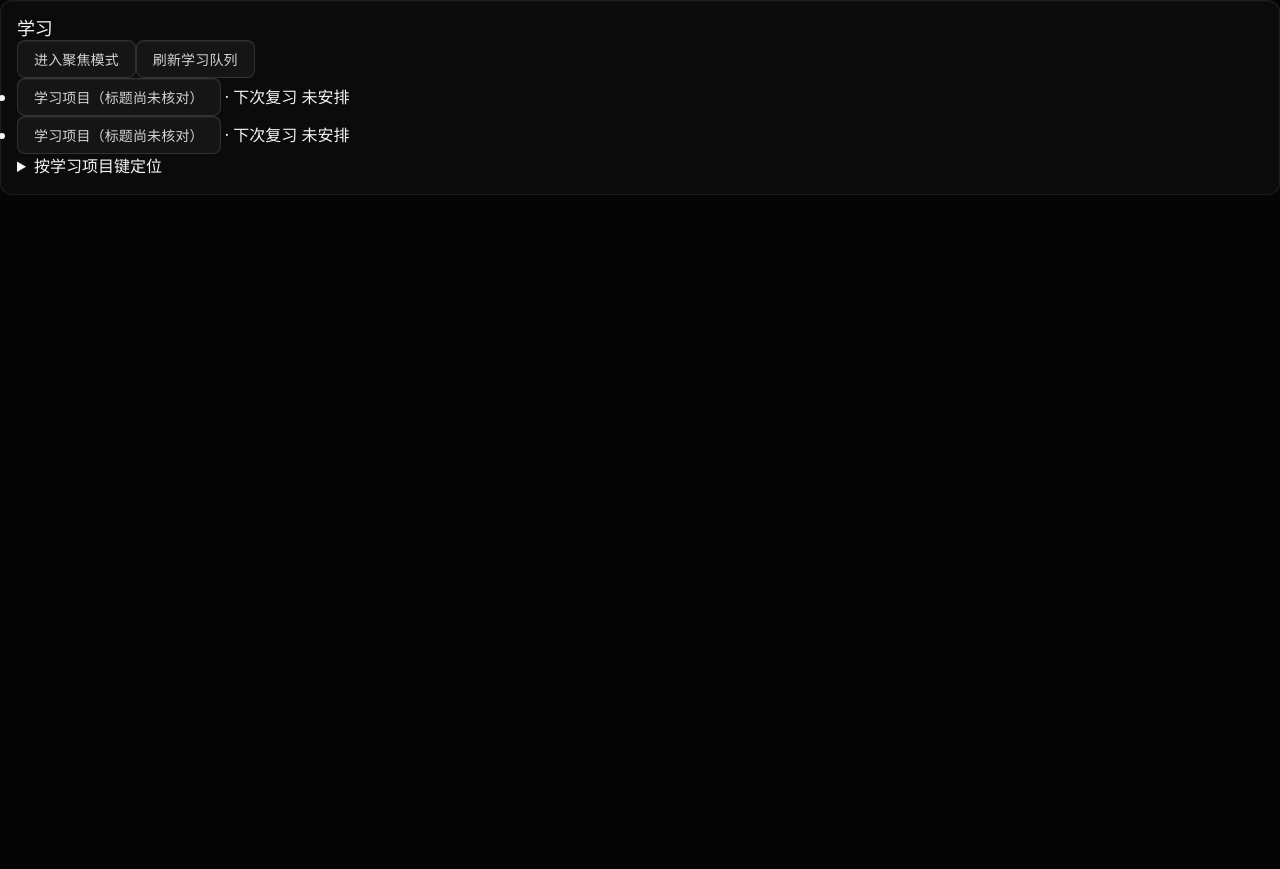
Test: discards only an explicitly confirmed draft and resets the current answer after Core ACK
Click the 1st button "学习项目（标题尚未核对）" at x=119, y=96, box [17,78,221,116]
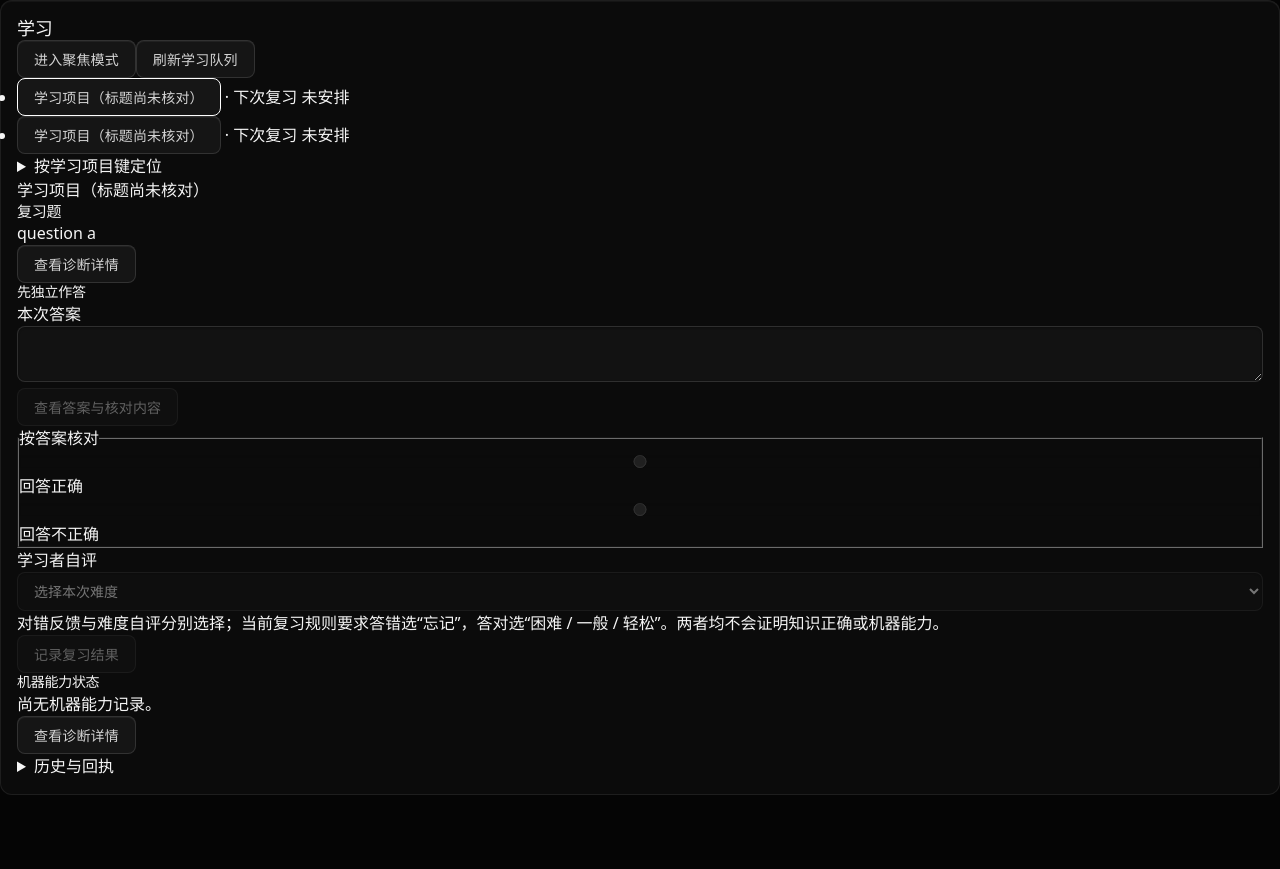
Type "discard only on request" into the text box labelled "本次答案" at x=640, y=354, box [17,326,1263,382]
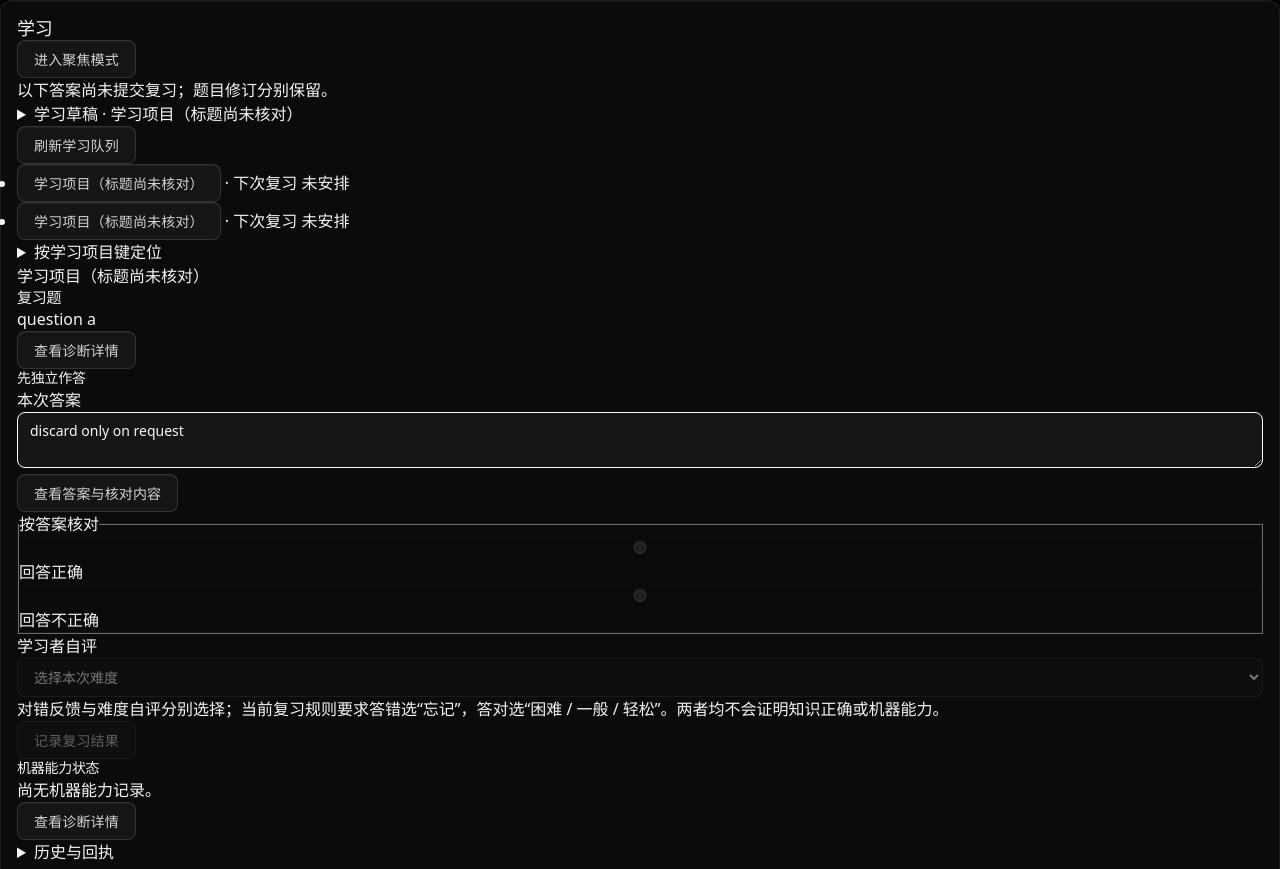
Click the heading "学习草稿 · 学习项目（标题尚未核对）" at x=168, y=114, box [34,102,302,124]
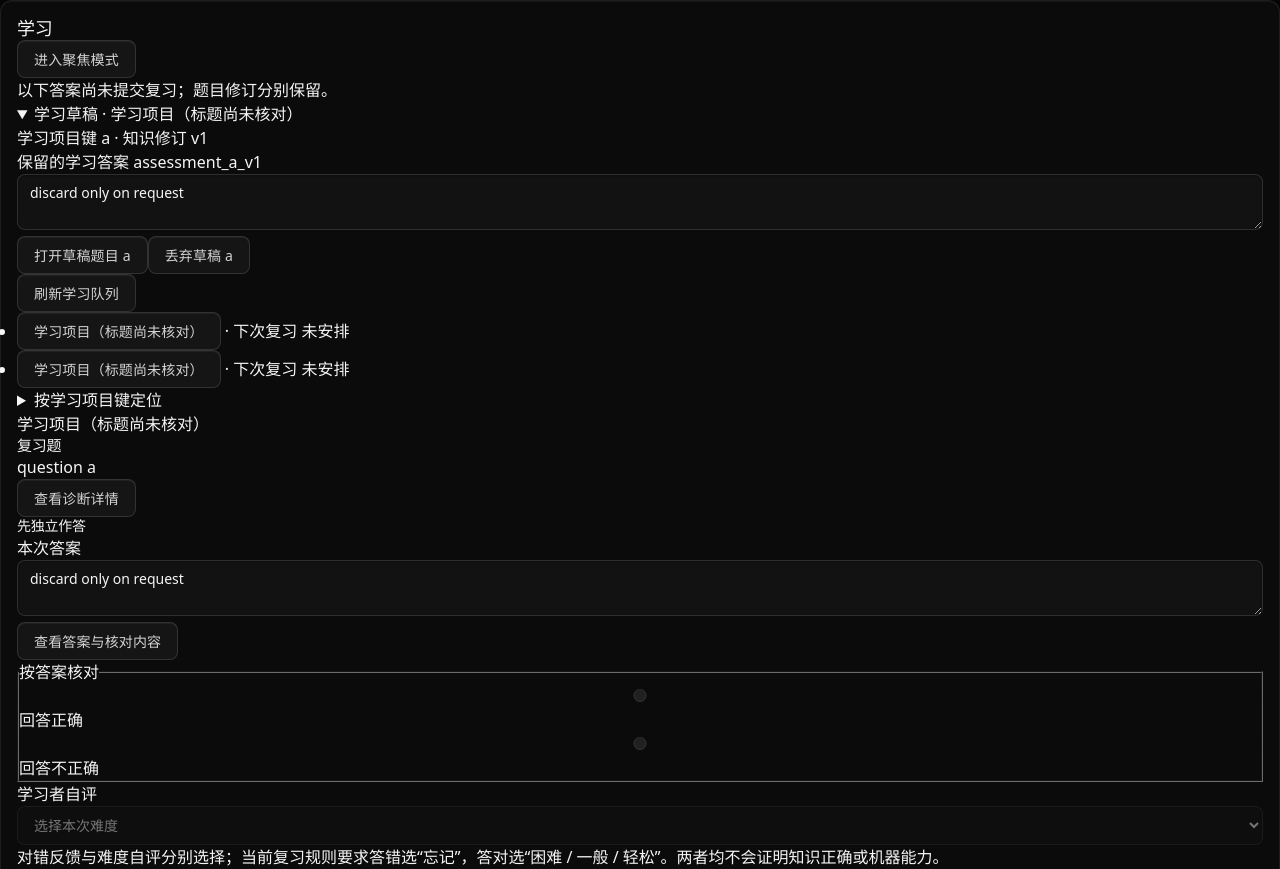
Click the button "丢弃草稿 a" at x=199, y=254, box [148,236,250,274]
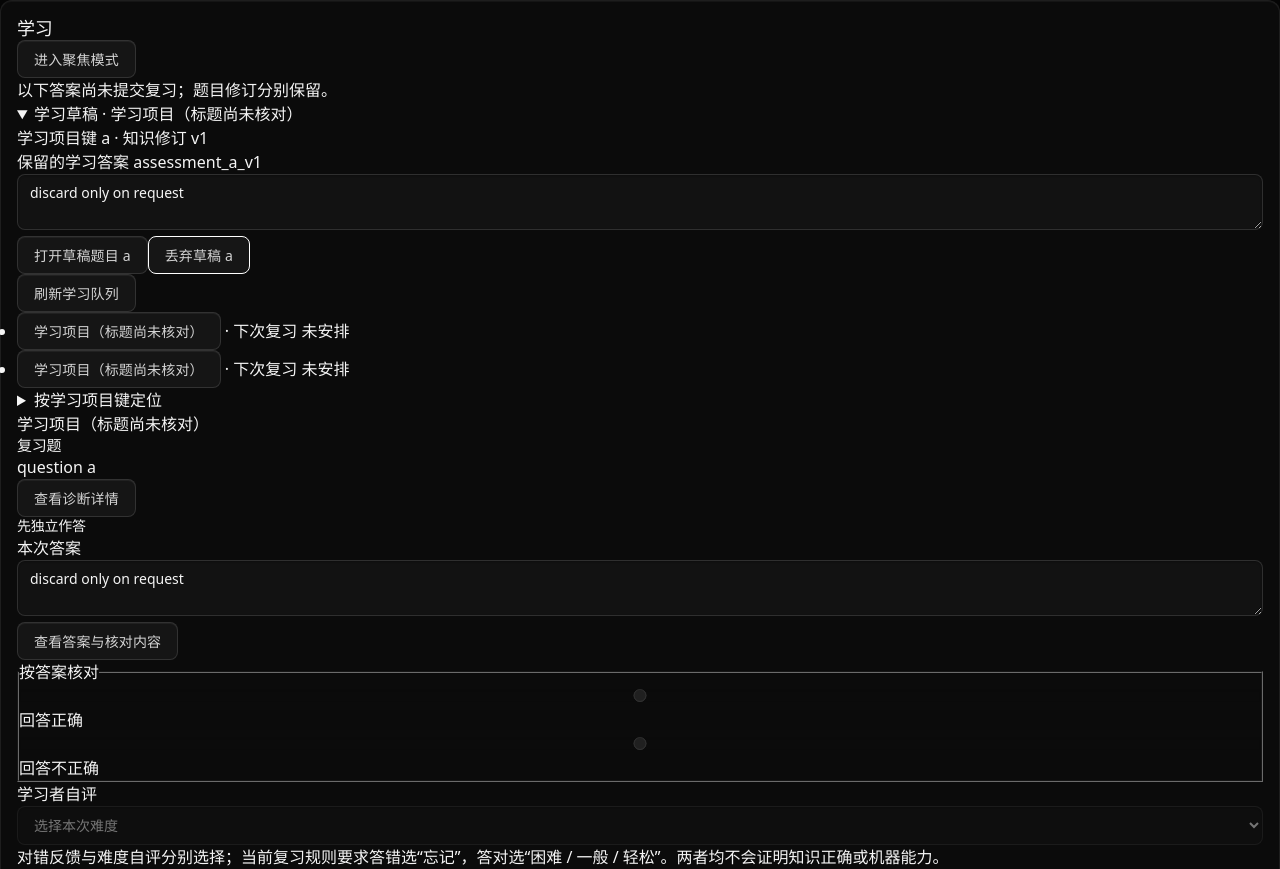
Click the button "丢弃草稿 a" at x=199, y=254, box [148,236,250,274]
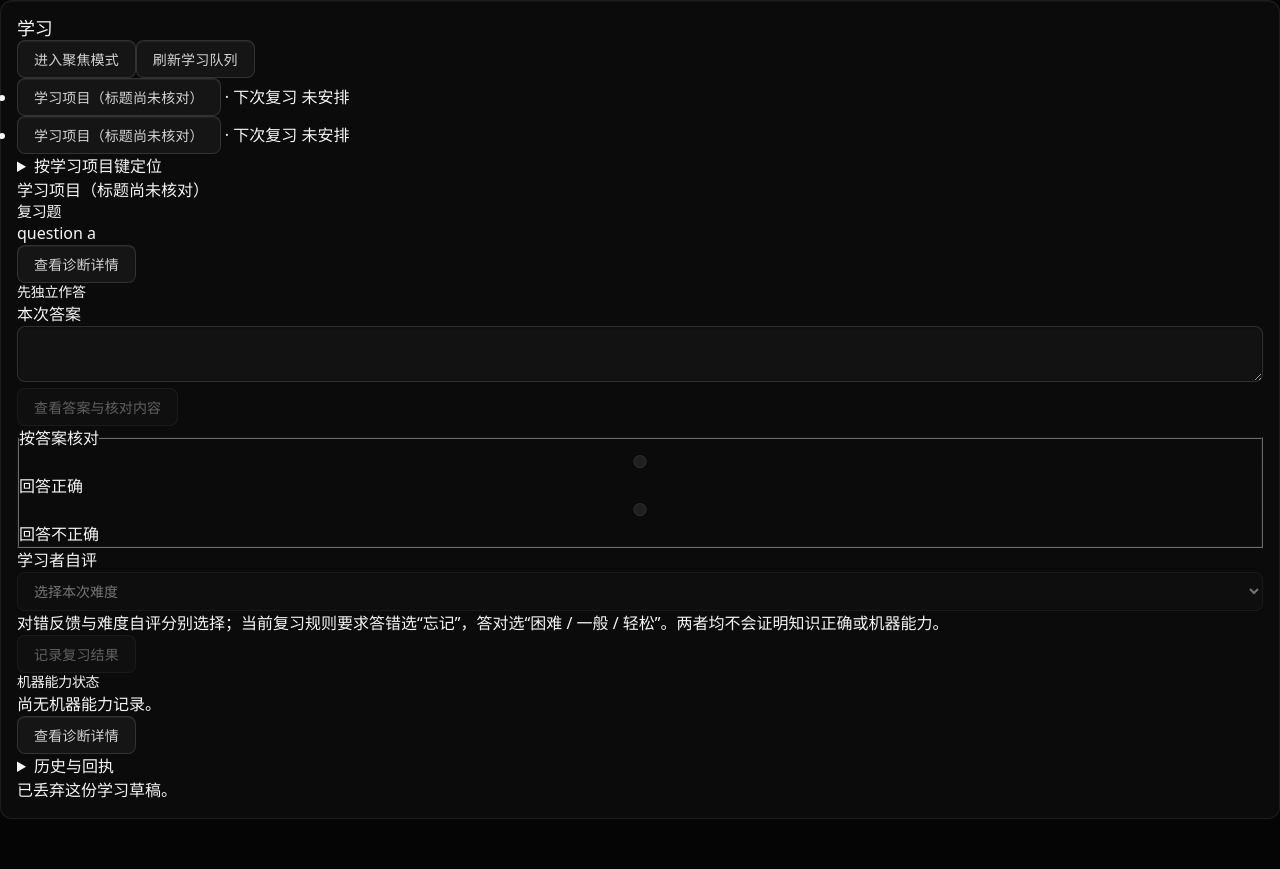
Expected: the text "已丢弃这份学习草稿。" is shown, [17,779,177,801]
Expected: the text box labelled "本次答案" is empty, [17,326,1263,382]
